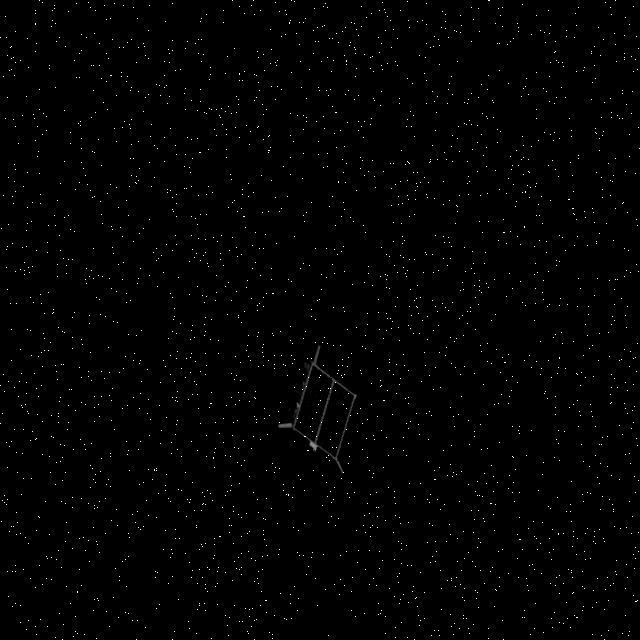satellite: (270, 342, 378, 480)
